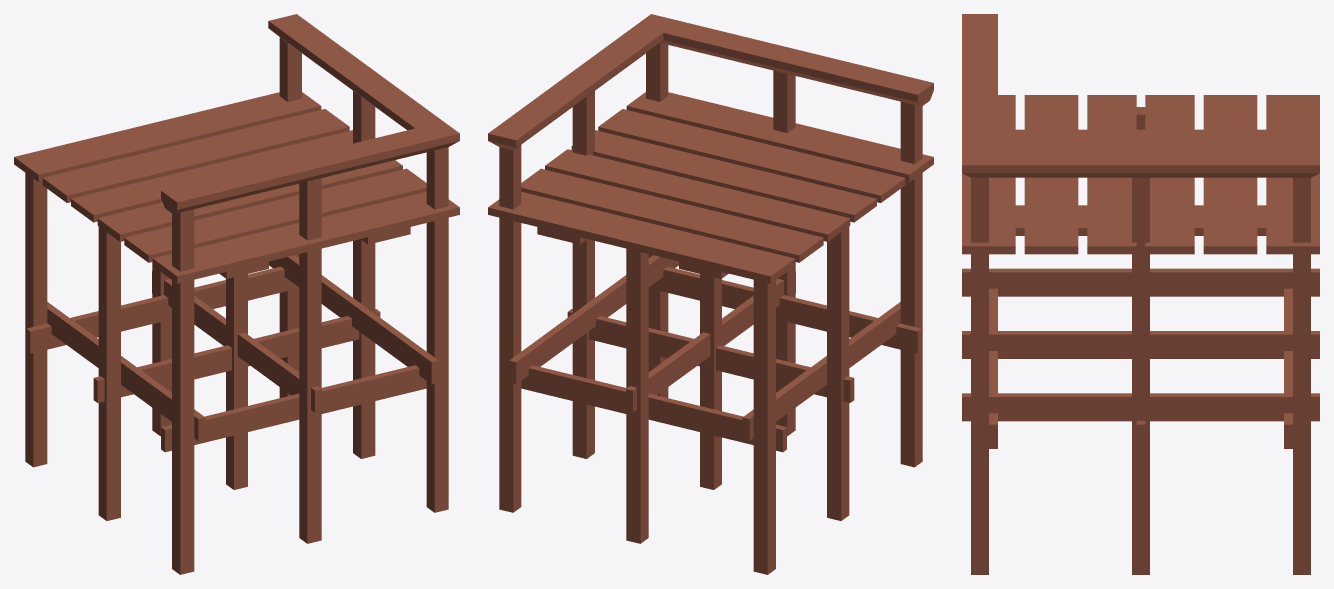
Rendered from scaffold_high_cornerLeft 1.fbx.
3 renders of one model, left to right at view 1: azimuth 30°, elevation 25°; view 2: azimuth 150°, elevation 25°; view 3: azimuth 270°, elevation 25°, orthographic. The views are drawn at different scales.
Parts seen in each view (by area): view 1: scaffold_high_cornerLeft; view 2: scaffold_high_cornerLeft; view 3: scaffold_high_cornerLeft.
Boxes of the visible parts, x1,y1,x2,y2 form: scaffold_high_cornerLeft: [14, 14, 459, 574]; scaffold_high_cornerLeft: [488, 14, 933, 574]; scaffold_high_cornerLeft: [962, 14, 1319, 574].
Bounding box in the file's own units: 400 × 510 × 400.
